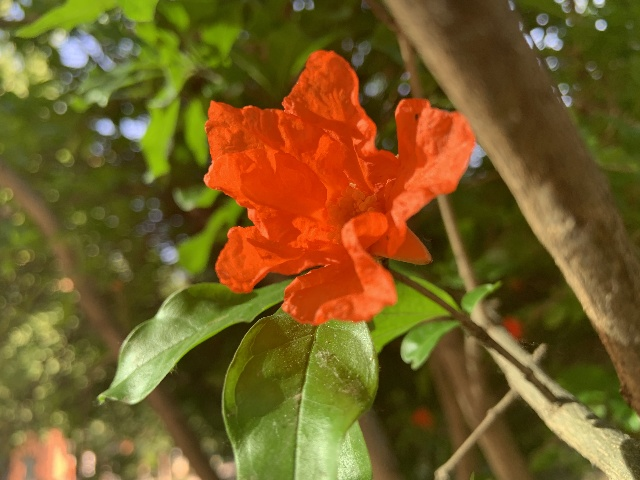flower: (201, 49, 472, 326)
